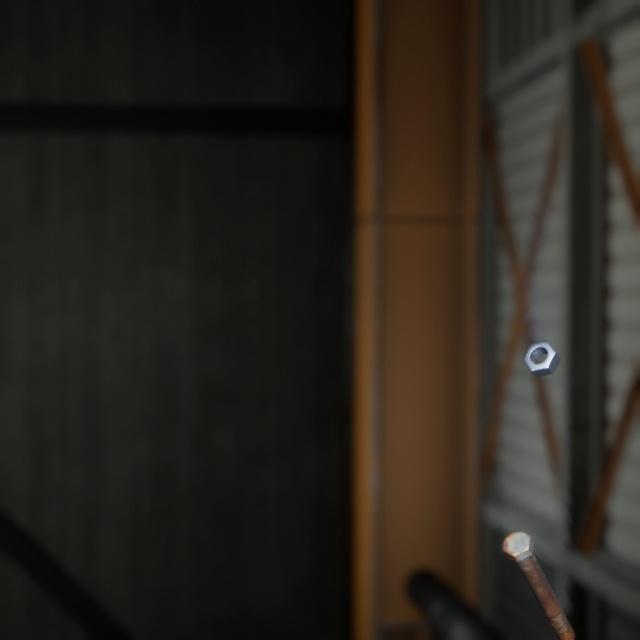bolt: (498, 502, 579, 626)
nut: (518, 317, 565, 362)
